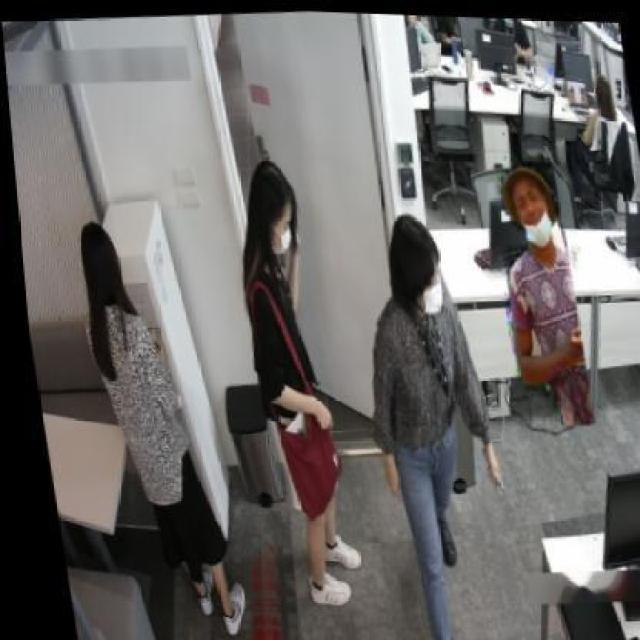hairnet: (514, 178, 558, 244)
